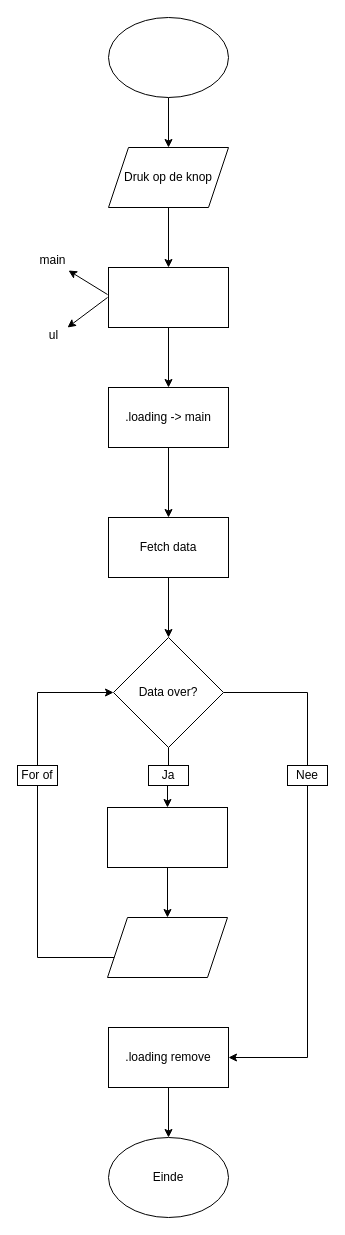
The diagram is 345 pixels wide and 1235 high, and some of its shapes have lost their labels. Here are the shapes that lost their labels. From the top down, the centre of each, then its label:
(168,57): Start
(168,297): DOM elementen selecteren
(167,837): listitem + value
(167,947): listitem -> ul
